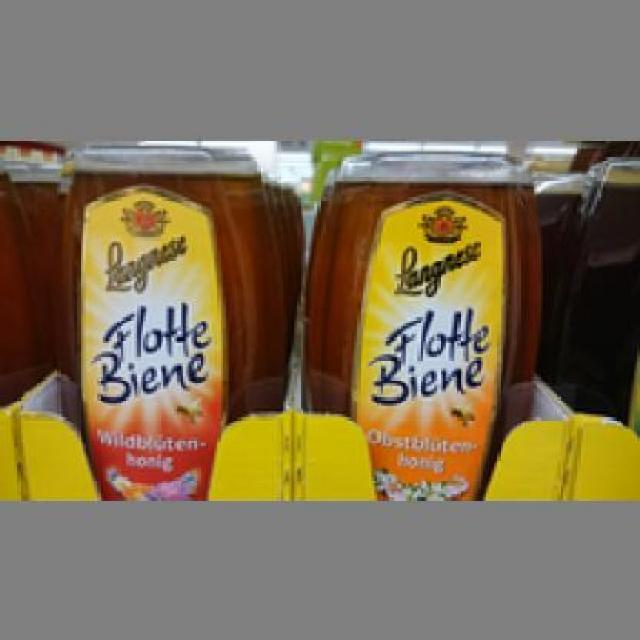Honey: (54, 140, 283, 503), (309, 146, 540, 494)
